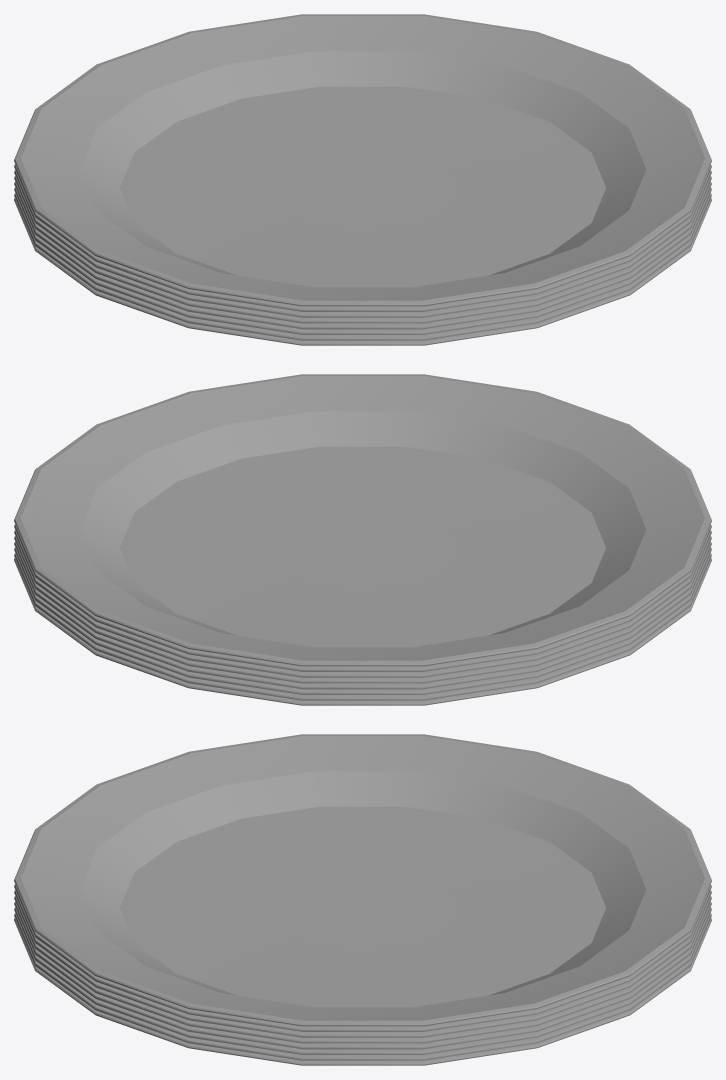
The model's file is PlateSpawner.fbx.
3 views of the same model, one above another, from view 1: azimuth 30°, elevation 25°; view 2: azimuth 150°, elevation 25°; view 3: azimuth 270°, elevation 25° (orthographic).
Visible parts, largest first — view 1: Circle.002; view 2: Circle.002; view 3: Circle.002.
Boxes of the visible parts, left/top/right/bottom form: Circle.002: left=14, top=14, right=711, bottom=345; Circle.002: left=14, top=374, right=711, bottom=705; Circle.002: left=14, top=734, right=711, bottom=1065.
Bounding box in the file's own units: 269 × 34.48 × 274.
Materials: 1 (1 with a texture image).
